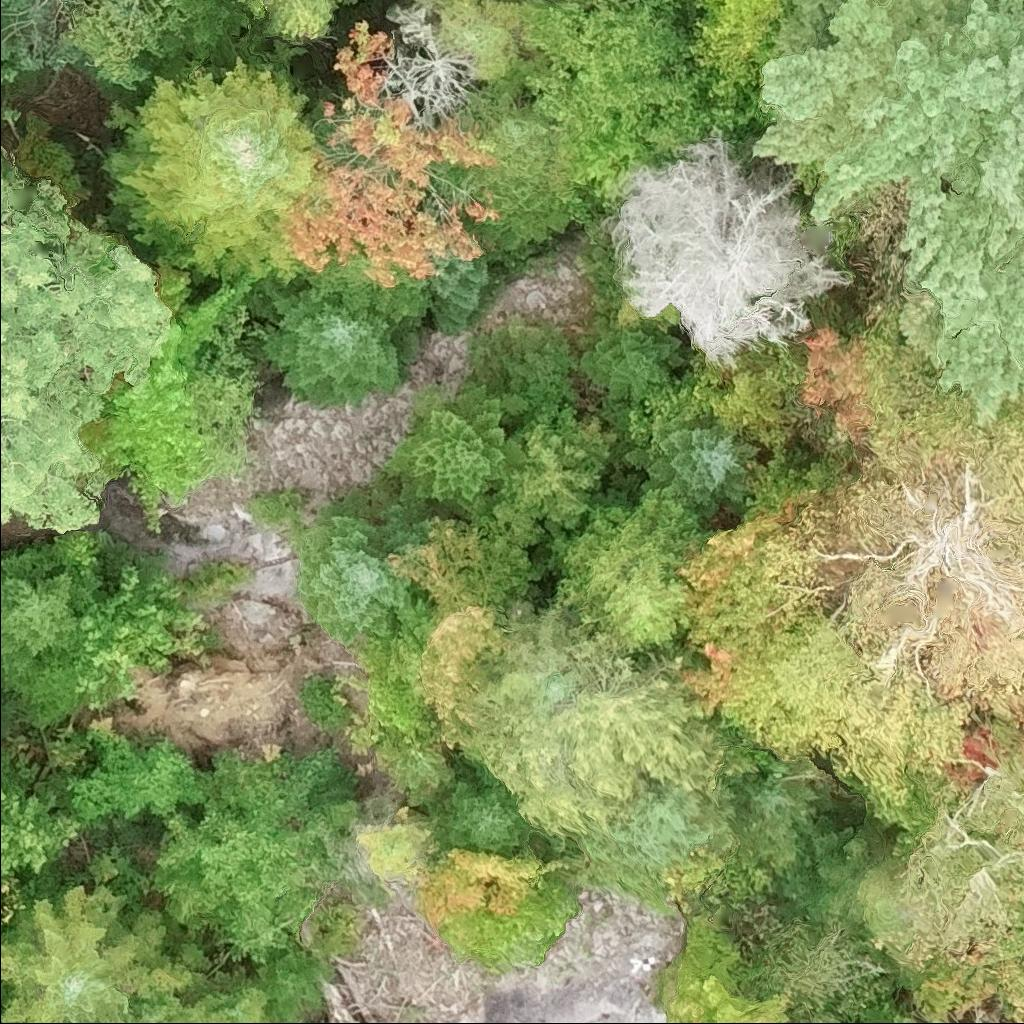crown: (754, 0, 1023, 423), (820, 321, 1023, 733), (712, 505, 973, 798), (0, 153, 178, 532), (462, 608, 732, 850), (606, 130, 846, 377), (290, 16, 495, 288), (107, 66, 330, 281), (523, 0, 756, 188), (204, 747, 354, 963), (0, 887, 206, 1023), (387, 520, 504, 758), (87, 316, 213, 535), (677, 503, 802, 717), (439, 111, 598, 274), (558, 494, 704, 653), (382, 2, 548, 134), (287, 489, 420, 647), (474, 408, 613, 552), (260, 292, 403, 412), (386, 378, 512, 513), (905, 816, 1023, 958), (69, 726, 212, 823), (76, 577, 187, 700), (424, 0, 545, 111), (632, 418, 760, 516), (76, 0, 236, 77), (950, 748, 1023, 892), (0, 575, 99, 672), (798, 326, 876, 448), (589, 314, 685, 410), (430, 772, 531, 856), (0, 777, 80, 878), (668, 974, 791, 1023), (258, 949, 323, 1023), (699, 0, 784, 53), (429, 258, 485, 337), (250, 0, 339, 41), (0, 885, 15, 930), (889, 1012, 915, 1023), (929, 1021, 942, 1023)
